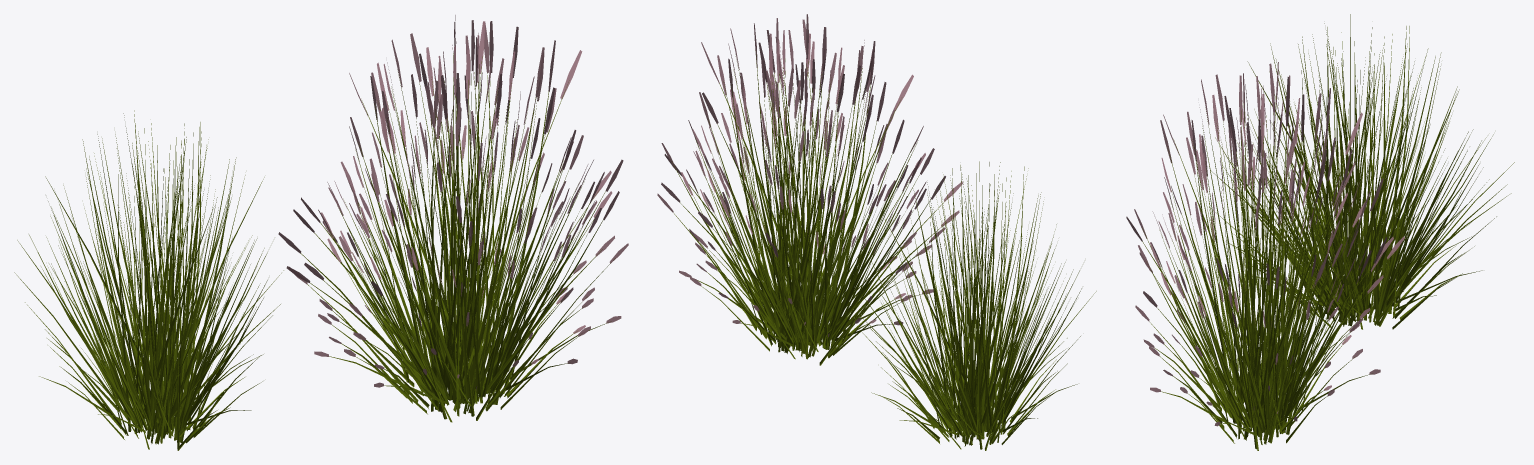
The model's file is grass 02.fbx.
The picture shows the model from 3 angles, left to right: view 1: azimuth 30°, elevation 25°; view 2: azimuth 150°, elevation 25°; view 3: azimuth 270°, elevation 25°; orthographic projection. The views are drawn at different scales.
Parts seen in each view (by area): view 1: blade11, blade147; view 2: blade61, blade216, blade116, blade147; view 3: blade367, blade76, blade148, blade178, blade325, blade117, blade404, blade116, blade204, blade281, blade107, blade102 (+10 smaller).
Part boxes in pixels (x1=…): blade11: x1=493, y1=91, x2=548, y2=404; blade147: x1=374, y1=103, x2=426, y2=368; blade61: x1=827, y1=68, x2=862, y2=349; blade216: x1=830, y1=85, x2=870, y2=348; blade116: x1=781, y1=92, x2=790, y2=351; blade147: x1=808, y1=96, x2=868, y2=357; blade367: x1=1379, y1=52, x2=1441, y2=315; blade76: x1=1194, y1=147, x2=1235, y2=423; blade148: x1=1286, y1=137, x2=1326, y2=434; blade178: x1=1265, y1=156, x2=1317, y2=444; blade325: x1=1348, y1=88, x2=1413, y2=326; blade117: x1=1253, y1=182, x2=1345, y2=418; blade404: x1=1369, y1=56, x2=1435, y2=300; blade116: x1=1283, y1=118, x2=1318, y2=432; blade204: x1=1168, y1=149, x2=1245, y2=399; blade281: x1=1384, y1=26, x2=1406, y2=309; blade107: x1=1243, y1=103, x2=1260, y2=392; blade102: x1=1240, y1=159, x2=1256, y2=433.
Bounding box in the file's own units: 93.02 × 66.07 × 64.88.
